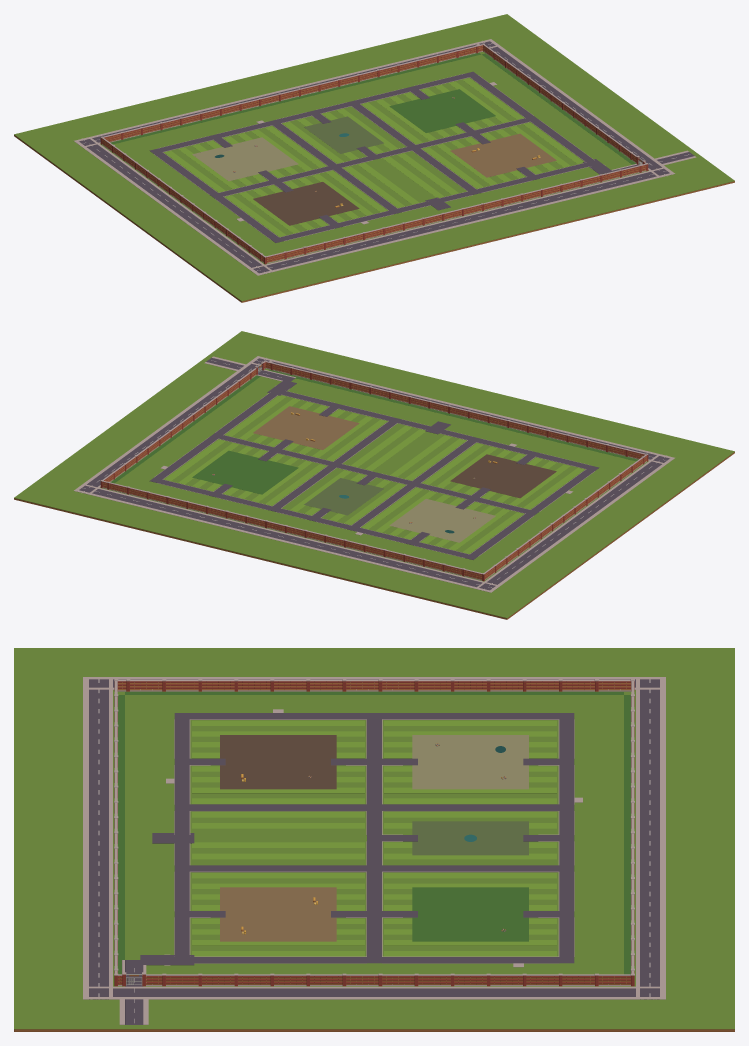
Rendered from D-ZOO.base.glb.
3 views of the same model, one above another, from view 1: azimuth 30°, elevation 25°; view 2: azimuth 150°, elevation 25°; view 3: azimuth 270°, elevation 25° (orthographic). The views are drawn at different scales.
Visible parts, largest first — view 1: pal_grass, pal_asphalt, pal_foliage, pal_sidewalk, pal_foliageDark, pal_trouserSeam, pal_gloveKhaki, pal_khakiSeam, pal_woodWarm, pal_apronOlive, zoo-wall-south-4-sidewalk, zoo-wall-north-4-sidewalk (+2 smaller); view 2: pal_grass, pal_asphalt, pal_foliage, pal_sidewalk, pal_foliageDark, pal_trouserSeam, pal_khakiSeam, pal_gloveKhaki, pal_woodWarm, pal_apronOlive, zoo-wall-north-4-sidewalk, zoo-wall-south-4-sidewalk (+2 smaller); view 3: pal_grass, pal_asphalt, pal_foliage, pal_sidewalk, pal_foliageDark, pal_trouserSeam, pal_khakiSeam, pal_gloveKhaki, pal_apronOlive, zoo-wall-west-3-sidewalk, pal_woodWarm, zoo-wall-east-3-sidewalk (+2 smaller).
Boxes of the visible parts, box(x1,y1,x2,y2) form: pal_grass: box(14, 14, 734, 301); pal_asphalt: box(79, 41, 694, 273); pal_foliage: box(164, 78, 583, 236); pal_sidewalk: box(74, 39, 696, 275); pal_foliageDark: box(110, 53, 635, 164); pal_trouserSeam: box(253, 182, 359, 225); pal_gloveKhaki: box(192, 137, 298, 181); pal_khakiSeam: box(450, 133, 556, 177); pal_woodWarm: box(14, 97, 734, 302); pal_apronOlive: box(304, 116, 383, 153); zoo-wall-south-4-sidewalk: box(266, 164, 646, 263); zoo-wall-north-4-sidewalk: box(103, 44, 482, 142); pal_grass: box(14, 331, 734, 618); pal_asphalt: box(79, 357, 669, 590); pal_foliage: box(164, 395, 584, 553); pal_sidewalk: box(74, 356, 674, 592); pal_foliageDark: box(111, 370, 638, 494); pal_trouserSeam: box(450, 454, 556, 498); pal_khakiSeam: box(253, 406, 359, 449); pal_gloveKhaki: box(389, 499, 495, 542); pal_woodWarm: box(14, 365, 734, 619); pal_apronOlive: box(304, 478, 383, 515); zoo-wall-north-4-sidewalk: box(102, 481, 482, 580); zoo-wall-south-4-sidewalk: box(266, 361, 645, 459); pal_grass: box(14, 648, 734, 1029); pal_asphalt: box(89, 679, 659, 1024); pal_foliage: box(192, 720, 556, 956); pal_sidewalk: box(83, 677, 665, 1024); pal_foliageDark: box(118, 692, 630, 982); pal_trouserSeam: box(220, 735, 336, 789); pal_khakiSeam: box(220, 887, 336, 941); pal_gloveKhaki: box(412, 735, 528, 789); pal_apronOlive: box(412, 821, 528, 855); zoo-wall-west-3-sidewalk: box(118, 679, 630, 691); pal_woodWarm: box(14, 743, 734, 1031); zoo-wall-east-3-sidewalk: box(142, 973, 630, 985).
Bounding box in the file's own units: 300 × 5.76 × 240.
